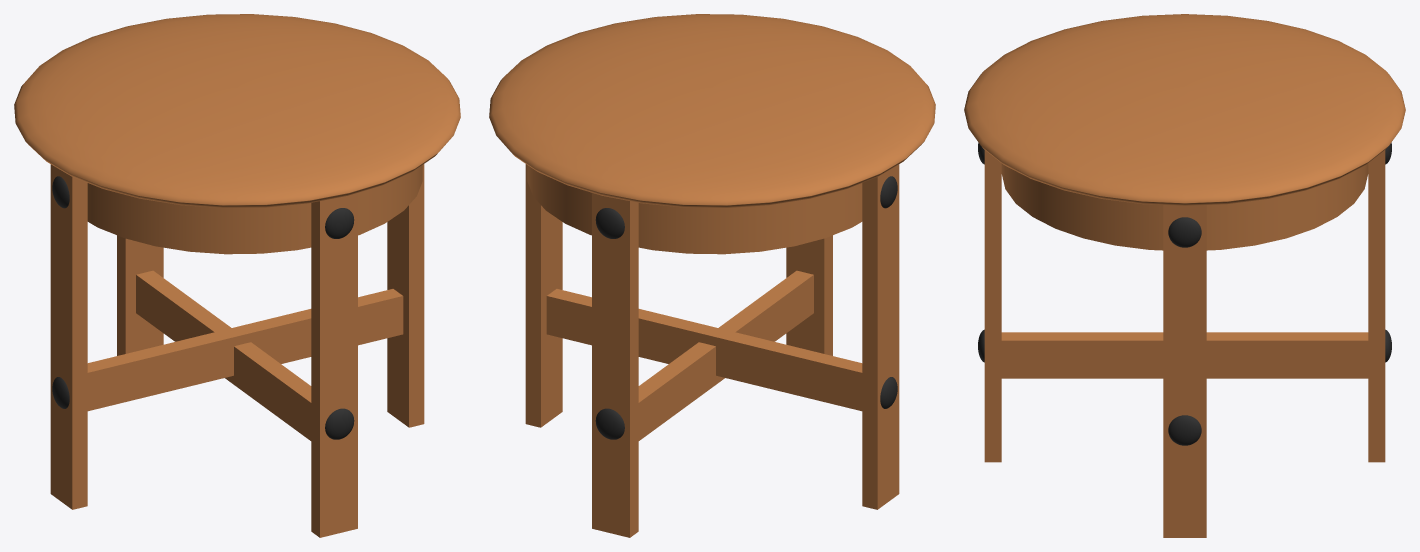
File: Stool.glb
3 views of the same model, side by side, from view 1: azimuth 30°, elevation 25°; view 2: azimuth 150°, elevation 25°; view 3: azimuth 270°, elevation 25° (orthographic).
Parts seen in each view (by area): view 1: Cylinder; view 2: Cylinder; view 3: Cylinder.
Boxes of the visible parts, box(x1,y1,x2,y2) form: Cylinder: box(14, 14, 460, 537); Cylinder: box(489, 14, 935, 537); Cylinder: box(964, 14, 1405, 537).
Size of the model in its own units: 2 by 1.83 by 2.
